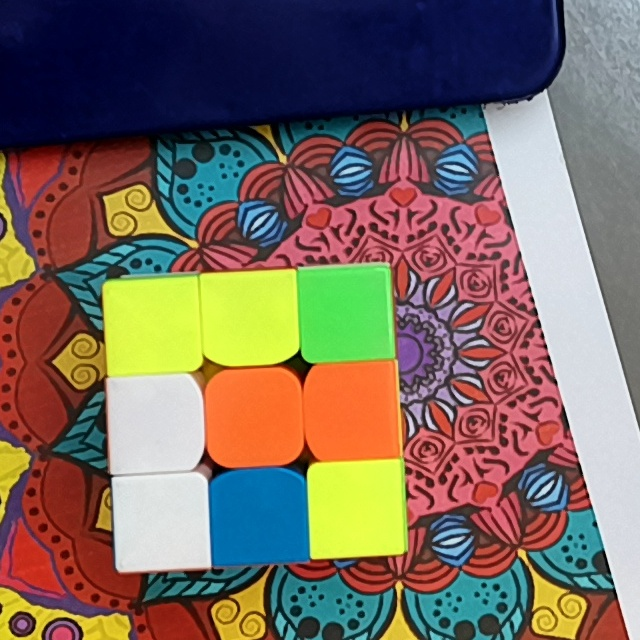tile: (120, 483, 203, 563), (316, 369, 396, 451), (305, 275, 386, 355), (112, 382, 192, 463), (112, 288, 195, 366), (316, 470, 397, 548), (208, 278, 291, 353), (218, 483, 301, 558), (212, 382, 292, 456)
